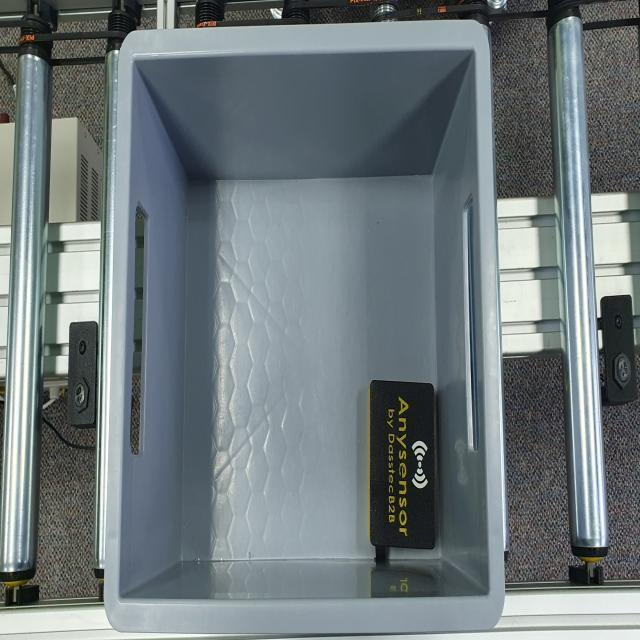box: (369, 378, 437, 549)
